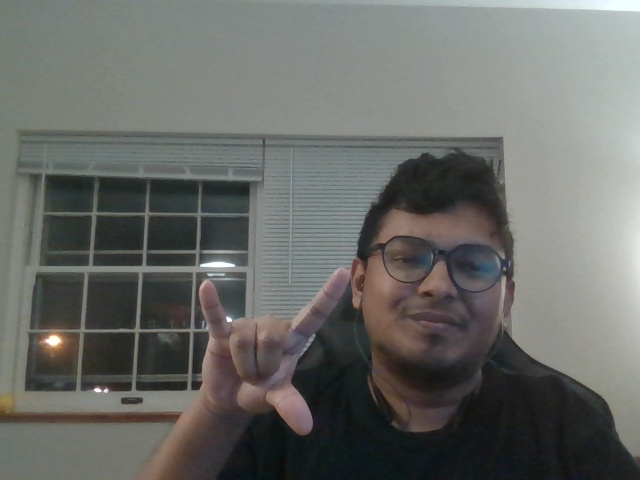ilikeyou: (186, 258, 352, 447)
